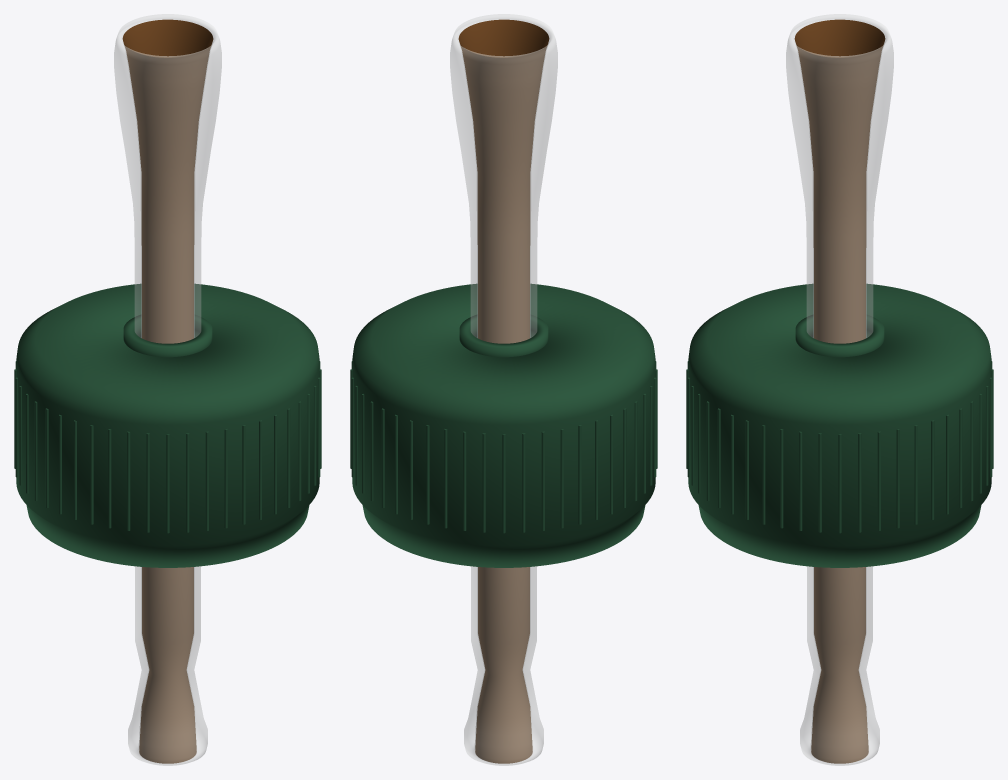
The model's file is pipe_hero.glb.
3 views of the same model, side by side, from view 1: azimuth 30°, elevation 25°; view 2: azimuth 150°, elevation 25°; view 3: azimuth 270°, elevation 25° (orthographic).
Visible parts, largest first — view 1: Cap_Drilled, PipeGlass, PipeResidue, CapCollar; view 2: Cap_Drilled, PipeGlass, PipeResidue, CapCollar; view 3: Cap_Drilled, PipeGlass, PipeResidue, CapCollar.
Part boxes in pixels (<box>): Cap_Drilled: <box>16,283,319,567</box>; PipeGlass: <box>114,14,221,765</box>; PipeResidue: <box>122,19,213,763</box>; CapCollar: <box>123,314,212,357</box>; Cap_Drilled: <box>352,283,655,567</box>; PipeGlass: <box>450,14,557,765</box>; PipeResidue: <box>458,19,549,763</box>; CapCollar: <box>459,314,548,357</box>; Cap_Drilled: <box>688,283,991,567</box>; PipeGlass: <box>786,14,893,765</box>; PipeResidue: <box>794,19,885,763</box>; CapCollar: <box>795,314,884,357</box>.
Size of the model in its own units: 0.0311 by 0.08 by 0.0311.
